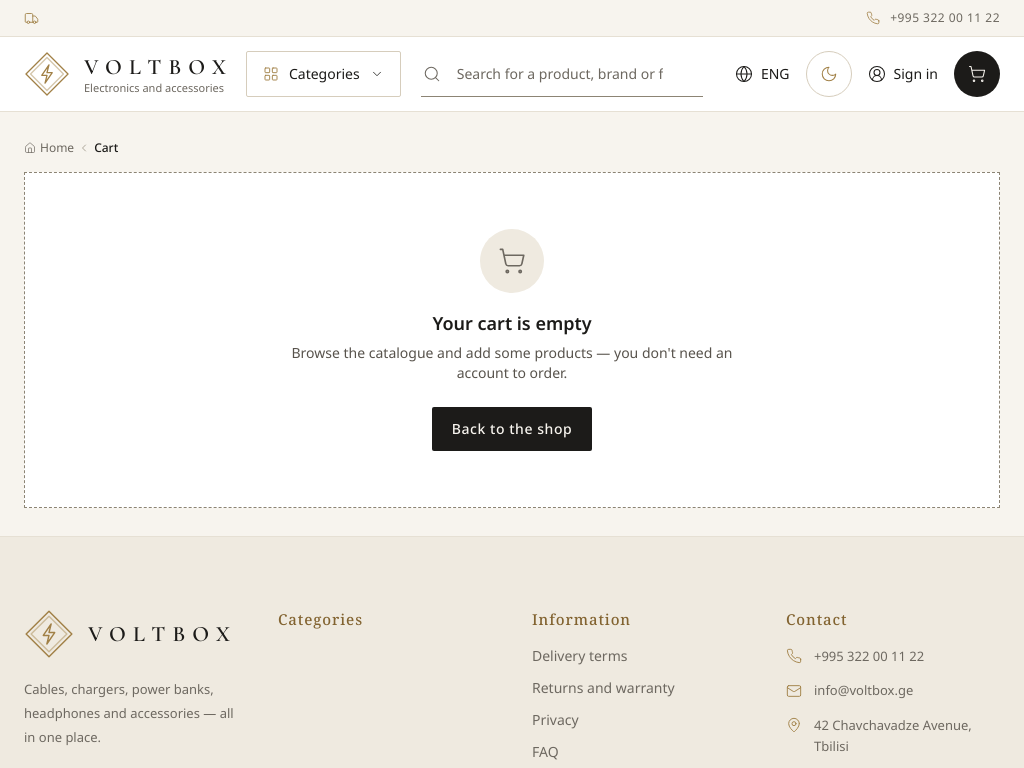
an English address › stays in English when a link is followed
Expected: the heading "Your cart is empty" is shown, [432,309,592,337]
Click the link "Delivery terms".
click(580, 655)  # box [532,646,628,665]
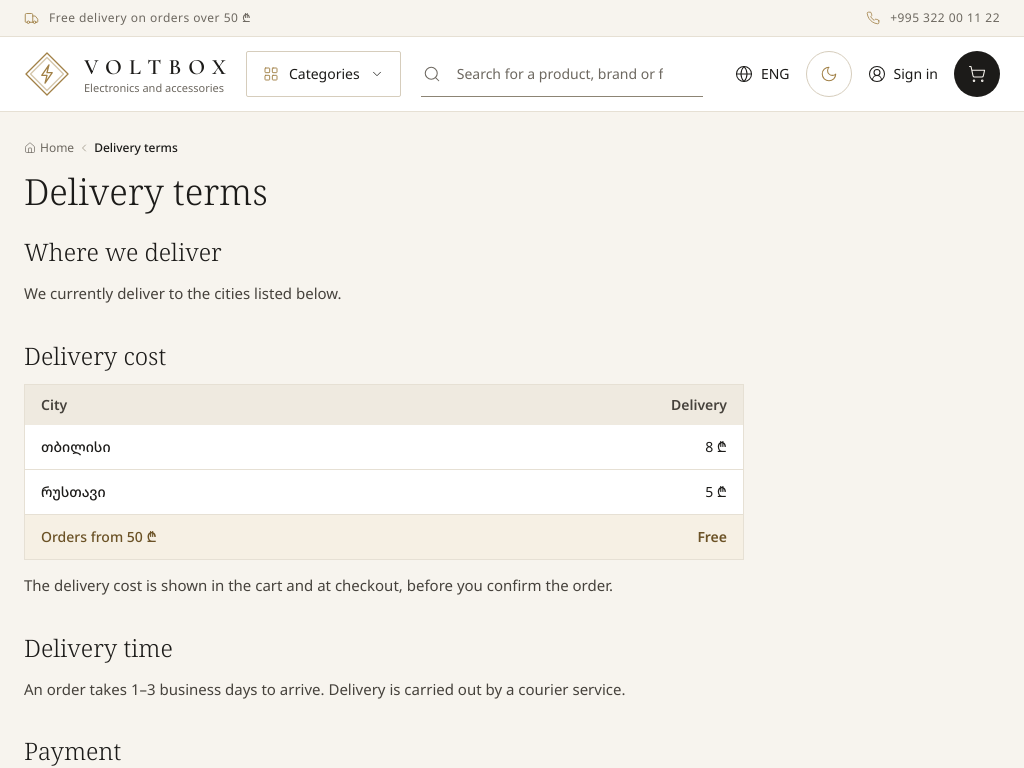
Expected: the heading "Delivery terms" is shown, [24,167,268,216]
